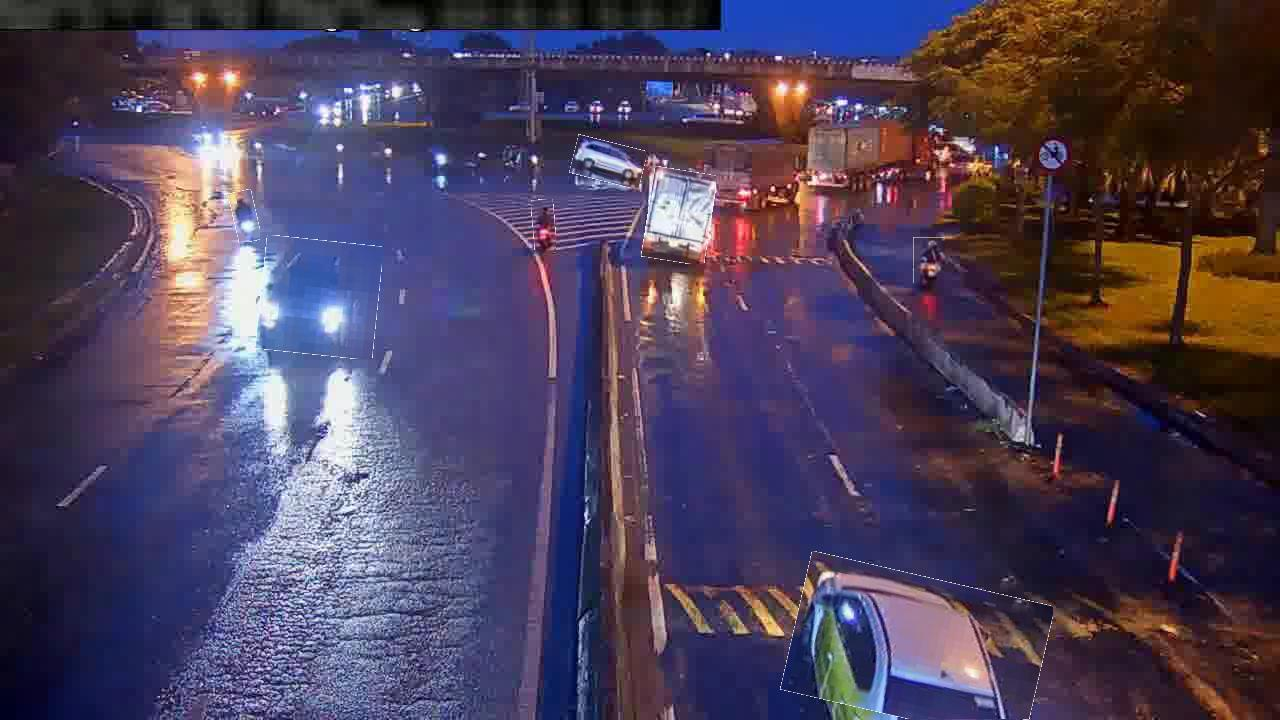8: (645, 168, 714, 263)
container: (786, 564, 1049, 719), (258, 238, 381, 358), (571, 138, 646, 185)
motorbike: (913, 237, 946, 284), (231, 190, 259, 243), (532, 200, 556, 254)
